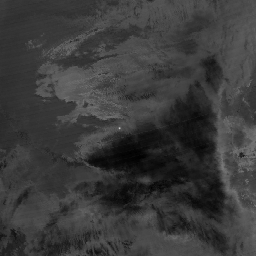Target: (117, 125, 123, 130)
